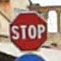stop: (7, 9, 48, 51)
